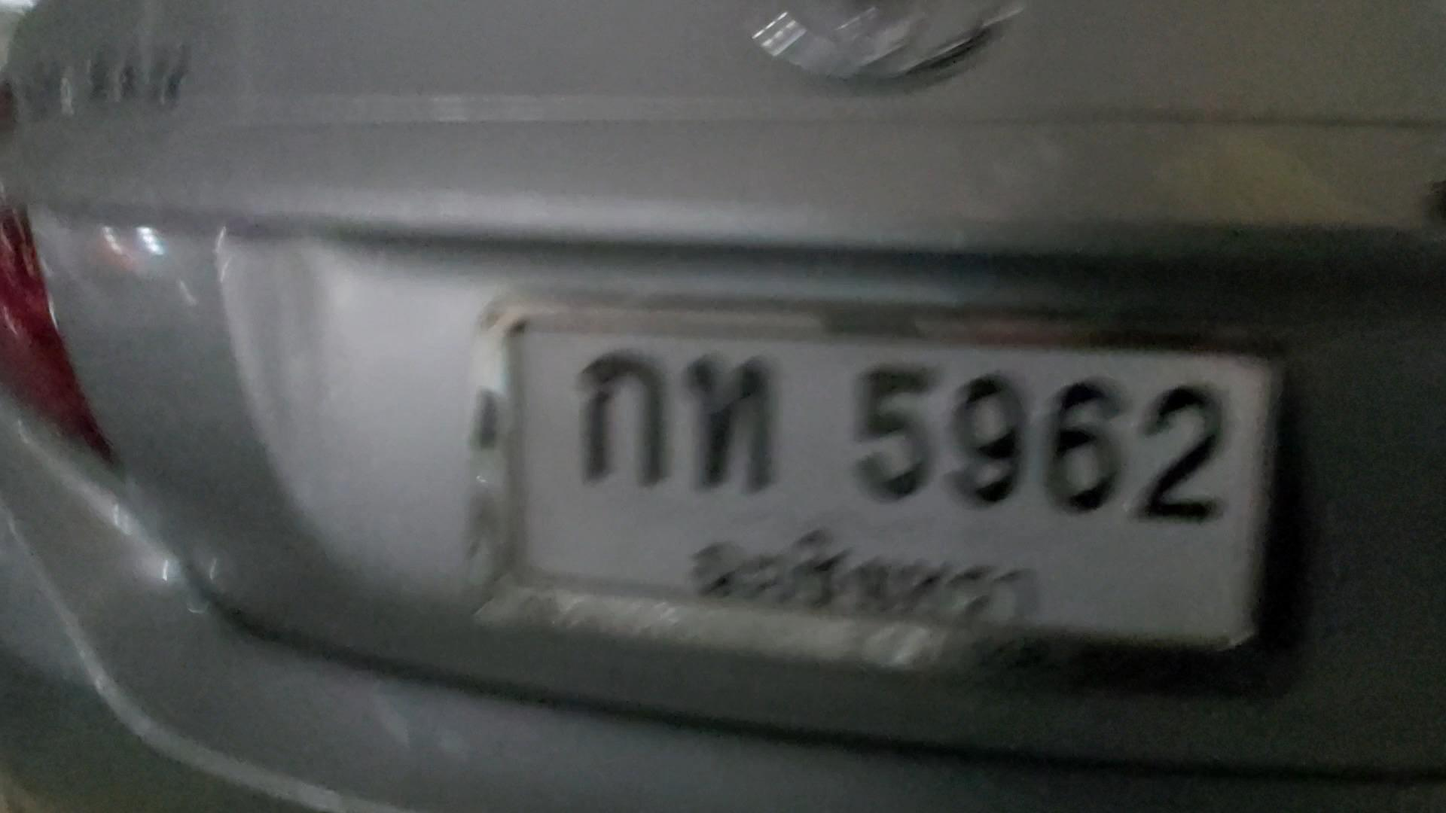license-plate: (512, 318, 1277, 648)
